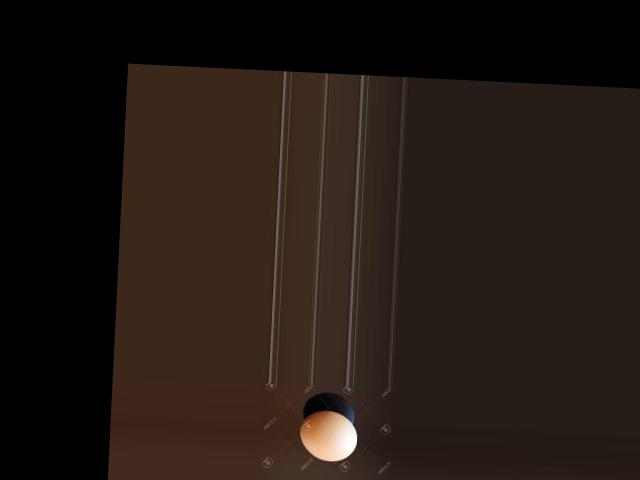egg: (298, 408, 358, 462)
